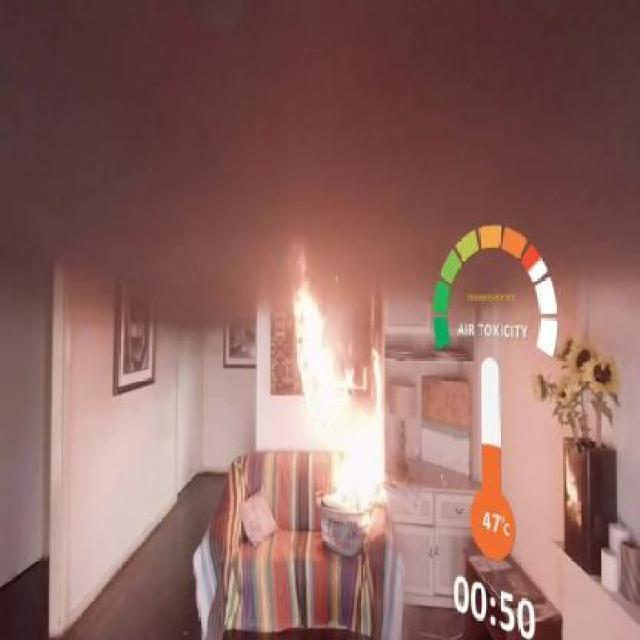fire: (280, 248, 400, 556)
smoke: (100, 19, 448, 247)
